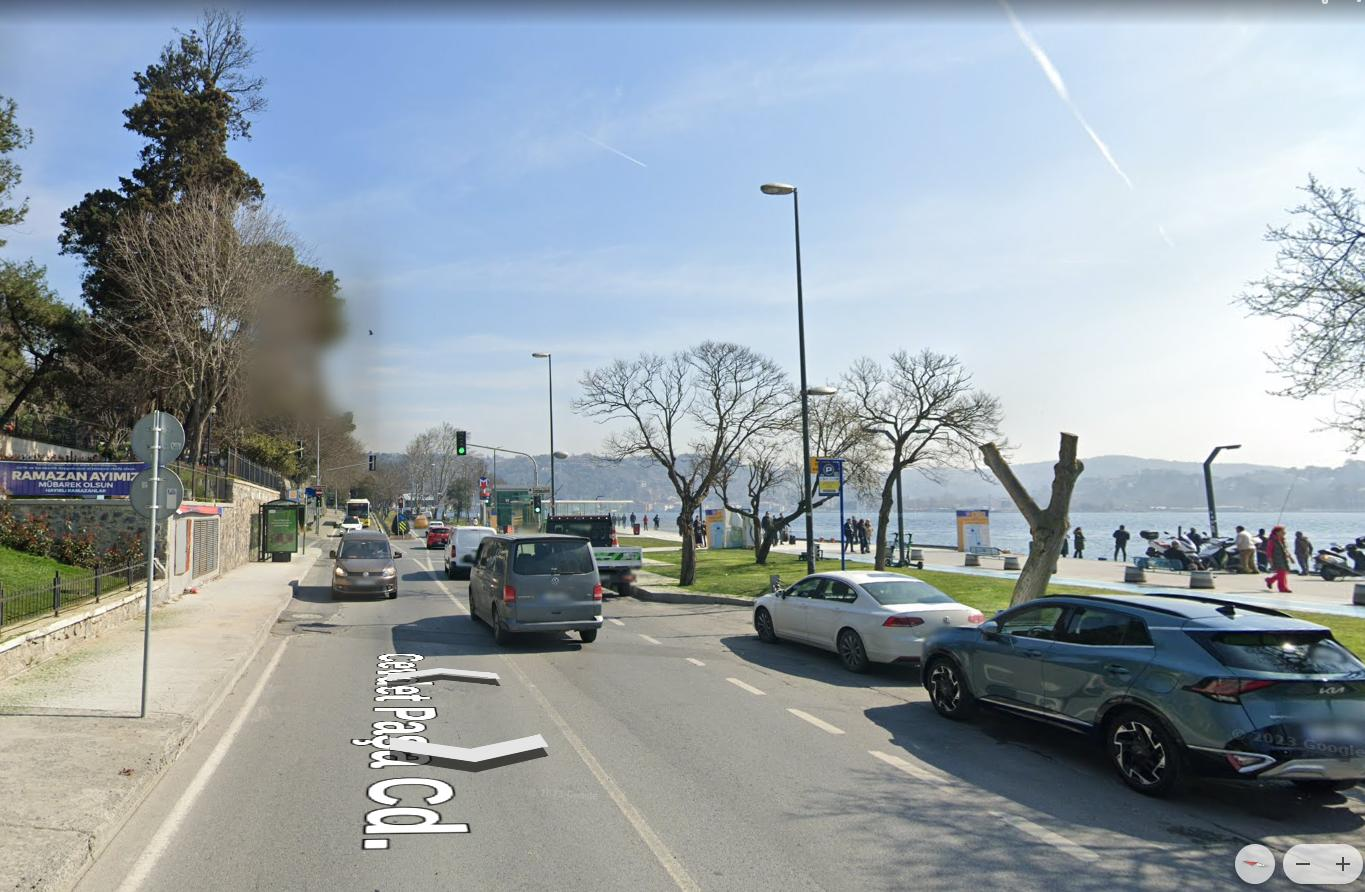greenlight: (457, 430, 467, 455), (534, 495, 540, 514)
